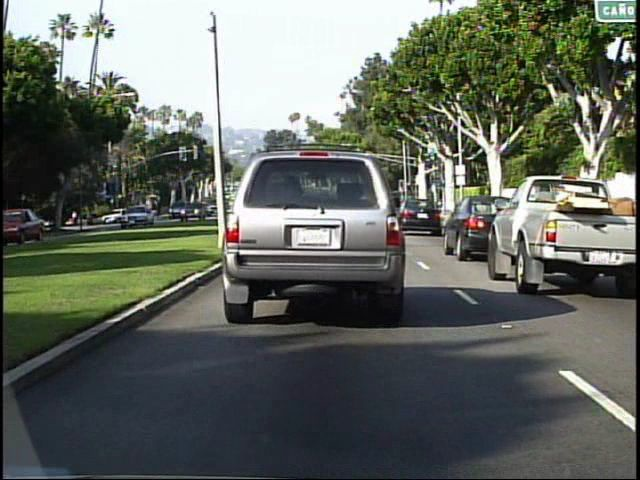person: (71, 207, 81, 228)
